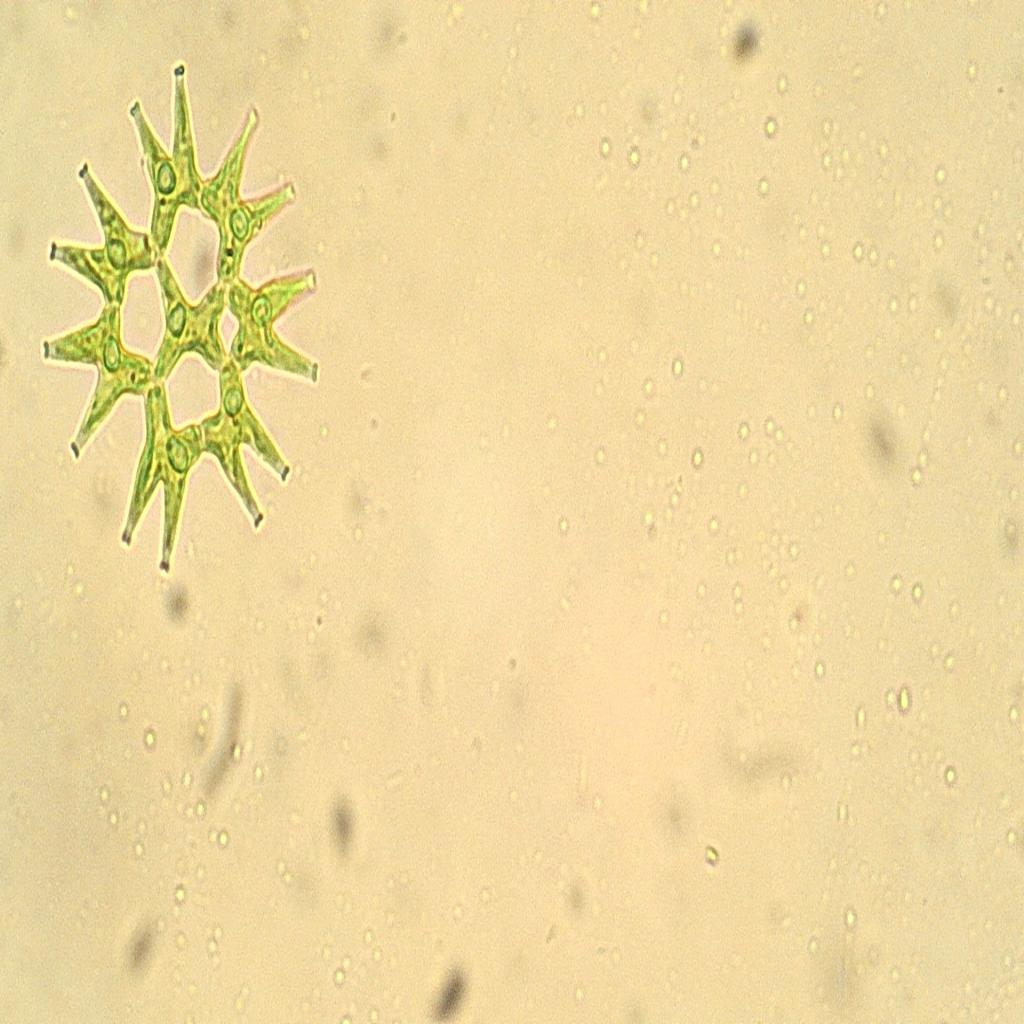Pediastrum_CTH: (30, 52, 343, 596)
